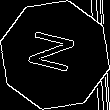N_E: (26, 29, 84, 81)
